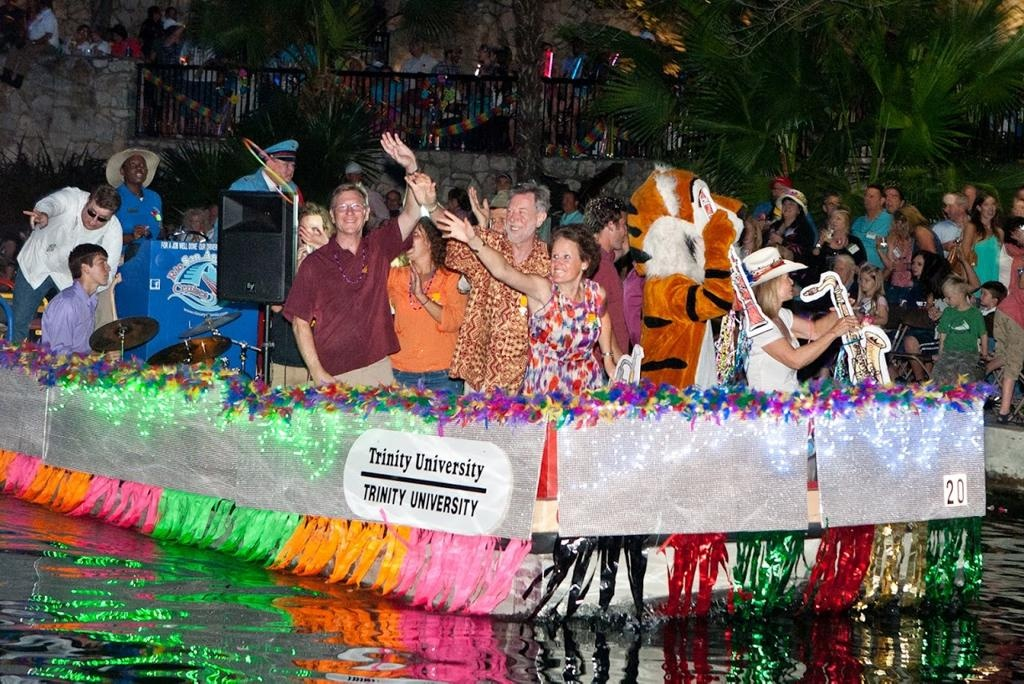human_face: (550, 242, 582, 280), (506, 199, 536, 239), (334, 196, 366, 232), (492, 208, 516, 244), (303, 216, 327, 248), (84, 256, 110, 284), (606, 213, 626, 249), (403, 226, 425, 256), (770, 270, 792, 298), (124, 155, 146, 183), (83, 204, 109, 227), (270, 156, 292, 182), (780, 198, 798, 216), (961, 188, 975, 210), (944, 288, 960, 306), (910, 256, 926, 274), (860, 273, 874, 291), (833, 262, 847, 280), (864, 190, 878, 208), (884, 190, 898, 208), (944, 199, 958, 217), (982, 199, 996, 217), (897, 214, 911, 231), (348, 171, 362, 187), (1012, 202, 1024, 220), (826, 199, 840, 214), (980, 287, 992, 304), (386, 194, 400, 208), (496, 177, 508, 193), (448, 195, 460, 209), (772, 184, 782, 199), (831, 215, 843, 227), (562, 195, 572, 209), (190, 216, 200, 228), (448, 49, 458, 61), (380, 68, 390, 80), (112, 32, 122, 42), (414, 43, 422, 55), (478, 49, 486, 59), (490, 52, 498, 62), (150, 10, 158, 20), (168, 8, 176, 18), (80, 28, 88, 38), (416, 76, 424, 86), (93, 34, 101, 42)
